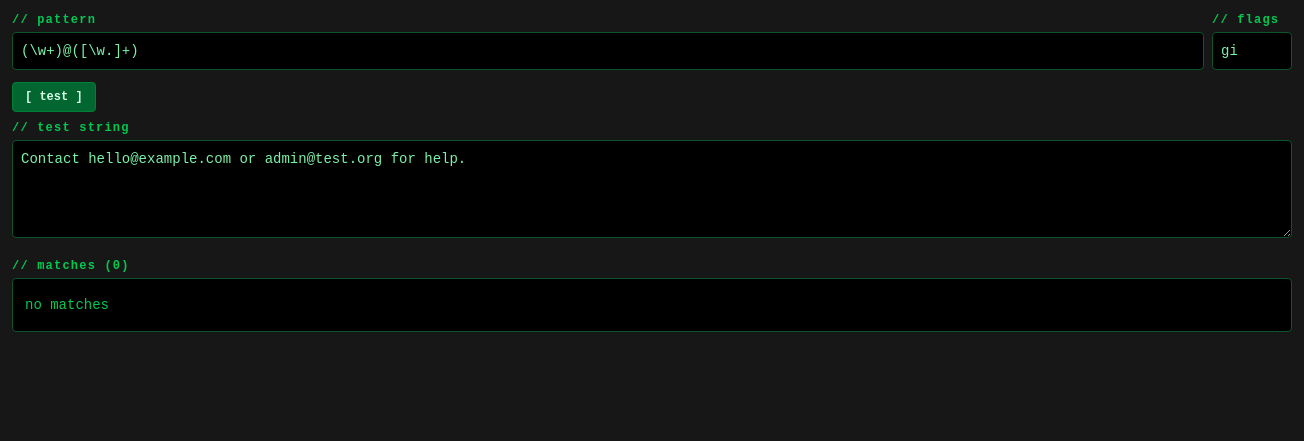
Test: RegexTool › shows 2 matches for default pattern and text
This screenshot has width=1304, height=441.
Click the button "[ test ]" at (54,97), box [12,82,96,112]
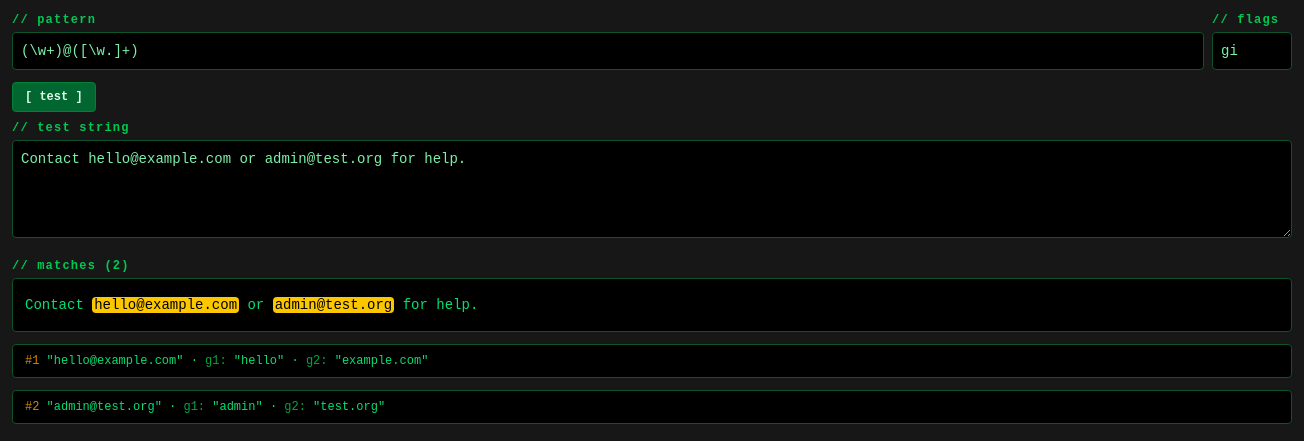
Check: the text "// matches (2)" is shown, box [12,259,130,273]
